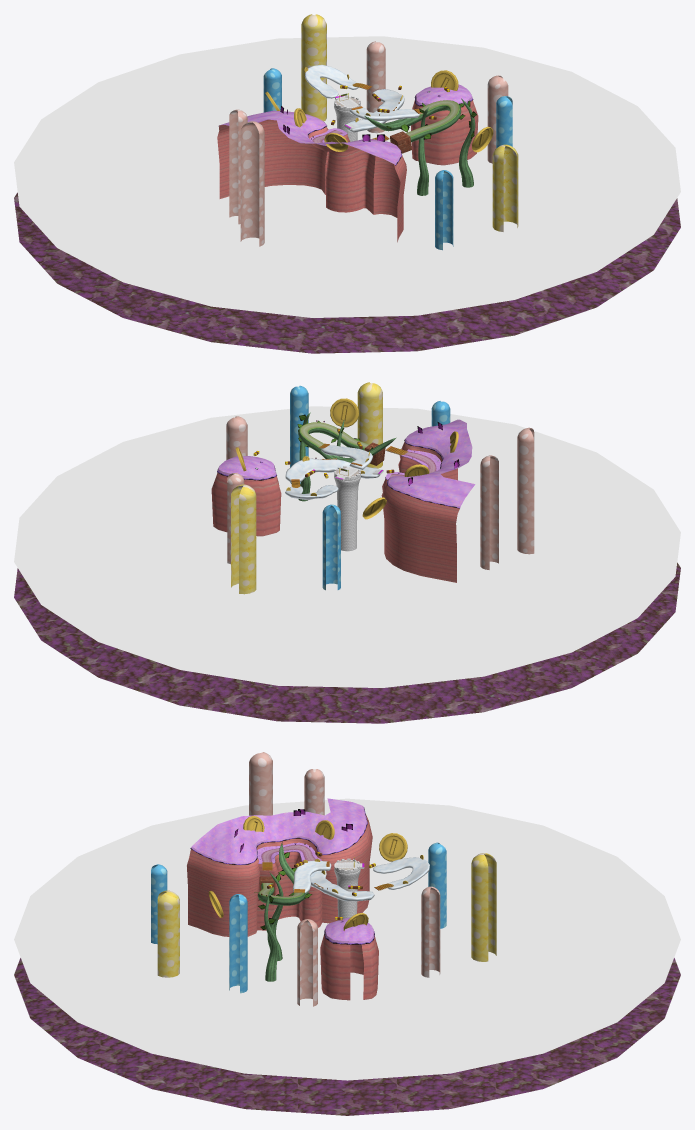
3 views of the same model, one above another, from view 1: azimuth 30°, elevation 25°; view 2: azimuth 150°, elevation 25°; view 3: azimuth 270°, elevation 25° (orthographic).
Visible parts, largest first — view 1: pCylinder13.001, pCylinder14.001, polySurface51.001, pCylinder5.001, polySurface62.001, pCylinder11.001, pCylinder12.001, polySurface53.001, pCylinder2.001, pCylinder6.001, pCylinder7.001, nurbsToPoly1.001 (+10 smaller); view 2: pCylinder13.001, pCylinder14.001, polySurface51.001, polySurface53.001, pCylinder12.001, polySurface62.001, pCylinder5.001, pCylinder6.001, pCylinder11.001, pCylinder4.001, polySurface16.001, pCylinder3.001 (+8 smaller); view 3: pCylinder13.001, pCylinder14.001, polySurface51.001, polySurface53.001, polySurface62.001, pCylinder12.001, pCylinder11.001, pCylinder3.001, pCylinder7.001, pCylinder10.001, pCylinder5.001, pCylinder4.001 (+11 smaller).
Boxes of the visible parts, x1=… form: pCylinder13.001: x1=14, y1=36, x2=680, y2=317; pCylinder14.001: x1=14, y1=192, x2=680, y2=353; polySurface51.001: x1=217, y1=119, x2=406, y2=242; pCylinder5.001: x1=240, y1=121, x2=264, y2=246; polySurface62.001: x1=411, y1=100, x2=478, y2=165; pCylinder11.001: x1=492, y1=144, x2=518, y2=231; pCylinder12.001: x1=301, y1=14, x2=326, y2=121; polySurface53.001: x1=220, y1=110, x2=400, y2=163; pCylinder2.001: x1=435, y1=170, x2=453, y2=250; pCylinder6.001: x1=229, y1=109, x2=247, y2=224; pCylinder7.001: x1=366, y1=41, x2=385, y2=133; nurbsToPoly1.001: x1=304, y1=64, x2=358, y2=98; pCylinder13.001: x1=14, y1=406, x2=680, y2=687; pCylinder14.001: x1=14, y1=562, x2=680, y2=723; polySurface51.001: x1=381, y1=442, x2=459, y2=582; polySurface53.001: x1=389, y1=419, x2=475, y2=506; pCylinder12.001: x1=231, y1=484, x2=256, y2=594; polySurface62.001: x1=211, y1=472, x2=281, y2=536; pCylinder5.001: x1=517, y1=427, x2=534, y2=554; pCylinder6.001: x1=480, y1=455, x2=498, y2=569; pCylinder11.001: x1=357, y1=382, x2=382, y2=468; pCylinder4.001: x1=322, y1=504, x2=340, y2=590; polySurface16.001: x1=334, y1=476, x2=360, y2=551; pCylinder3.001: x1=290, y1=385, x2=308, y2=483; pCylinder13.001: x1=14, y1=798, x2=680, y2=1080; pCylinder14.001: x1=14, y1=958, x2=680, y2=1115; polySurface51.001: x1=187, y1=815, x2=372, y2=936; polySurface53.001: x1=192, y1=798, x2=365, y2=862; polySurface62.001: x1=320, y1=934, x2=378, y2=1000; pCylinder12.001: x1=471, y1=853, x2=496, y2=961; pCylinder11.001: x1=157, y1=890, x2=179, y2=977; pCylinder3.001: x1=229, y1=894, x2=247, y2=993; pCylinder7.001: x1=421, y1=886, x2=440, y2=977; pCylinder10.001: x1=297, y1=919, x2=317, y2=1006; pCylinder5.001: x1=249, y1=752, x2=272, y2=815; pCylinder4.001: x1=428, y1=842, x2=446, y2=928.
Bounding box in the file's own units: 220000 × 56402 × 220000.
Materials: 29 (29 with a texture image).
